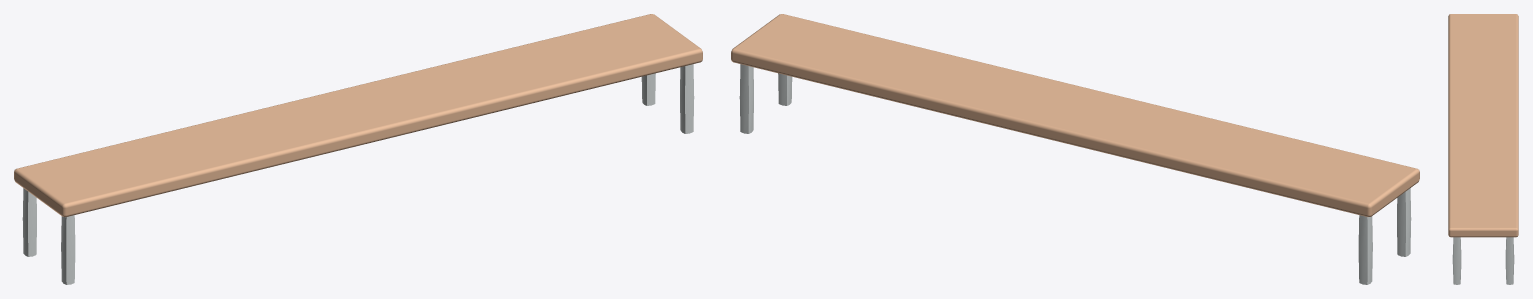
File: desk-apron.glb
The picture shows the model from 3 angles, left to right: view 1: azimuth 30°, elevation 25°; view 2: azimuth 150°, elevation 25°; view 3: azimuth 270°, elevation 25°; orthographic projection. The views are drawn at different scales.
Parts seen in each view (by area): view 1: part (×5); view 2: part (×5); view 3: part (×3).
Boxes of the visible parts, x1,y1,x2,y2 form: part (×5): (14,14,702,284); part (×5): (731,14,1419,284); part (×3): (1448,14,1518,284).
Size of the model in its own units: 5.8 by 0.74 by 0.8.
1 material, 1 textured.
